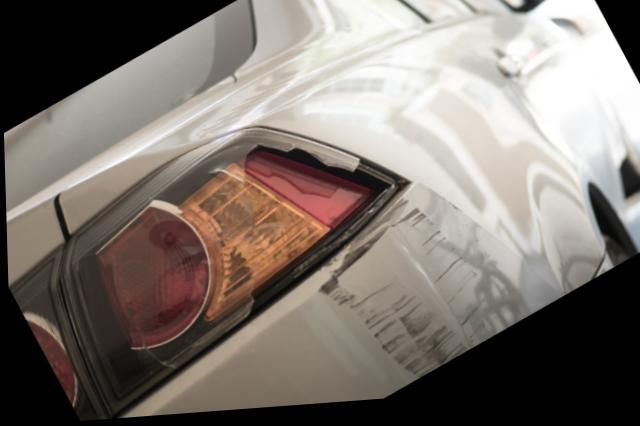lamp broken: (67, 130, 408, 420)
scratch: (313, 199, 497, 386)
